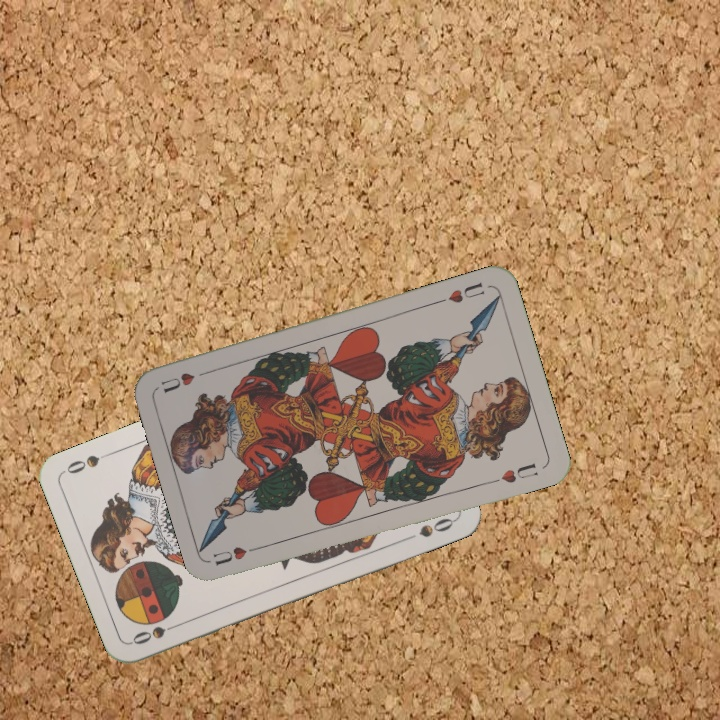HU: (209, 541, 267, 568), (434, 278, 488, 306)
SO: (128, 618, 186, 648)
